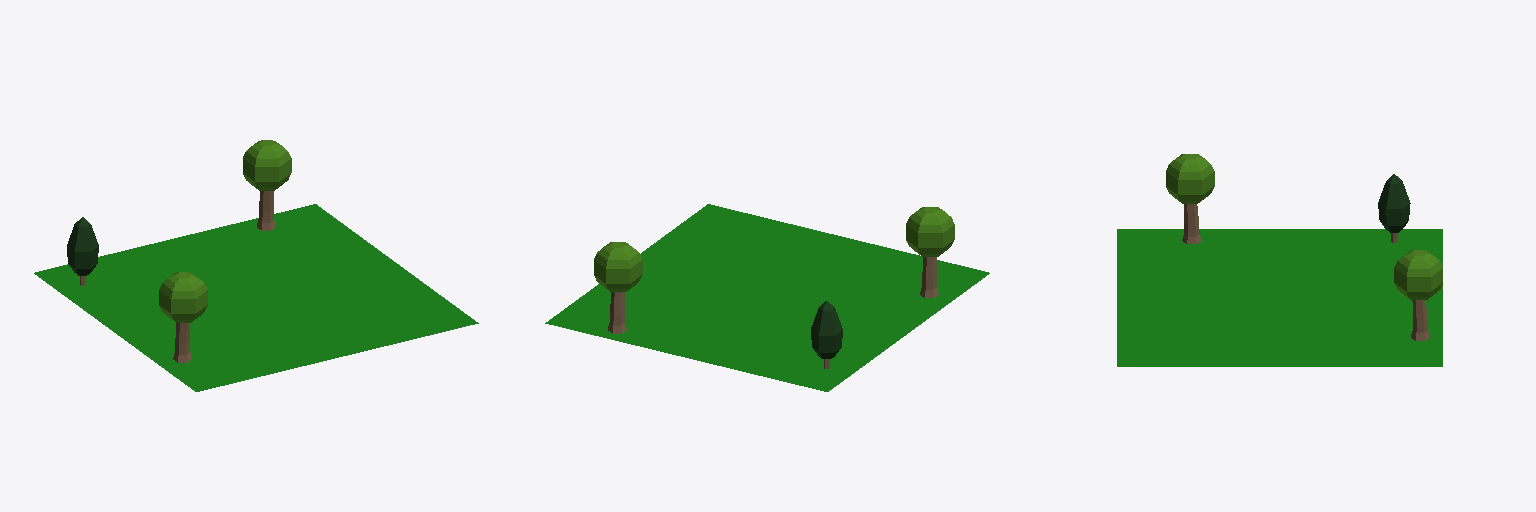
Rendered from house_01_grass.obj.
3 views of the same model, side by side, from view 1: azimuth 30°, elevation 25°; view 2: azimuth 150°, elevation 25°; view 3: azimuth 270°, elevation 25° (orthographic).
Visible parts, largest first — view 1: mergedBlocks; view 2: mergedBlocks; view 3: mergedBlocks.
Boxes of the visible parts, <box> form: mergedBlocks: <box>34,140,478,391</box>; mergedBlocks: <box>545,204,989,391</box>; mergedBlocks: <box>1117,154,1442,366</box>.
Bounding box in the file's own units: 1 × 0.285 × 1.